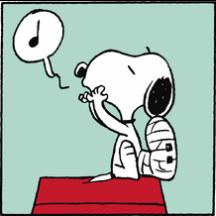charlie: (73, 44, 179, 185)
